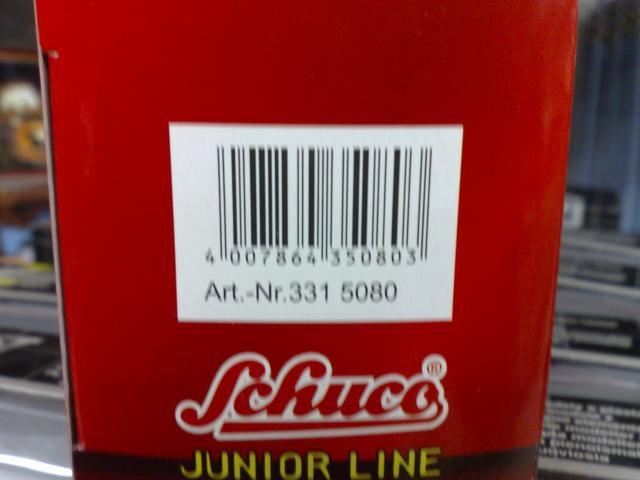Barcode: (199, 139, 434, 274)
